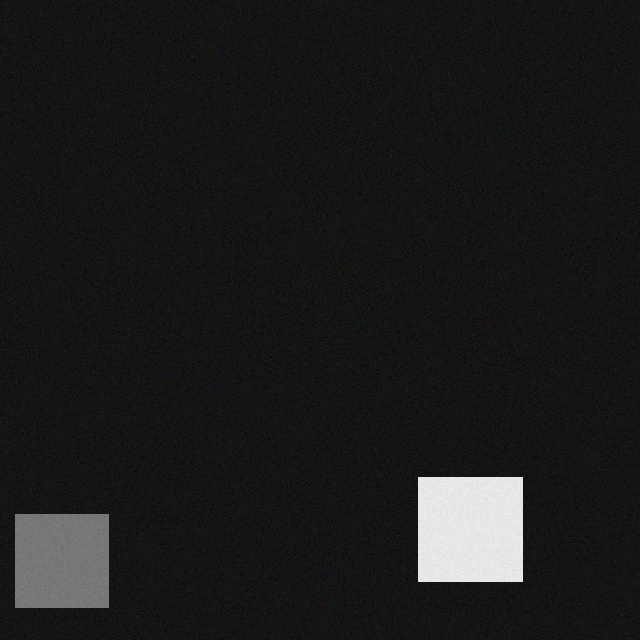square: (412, 488, 516, 592), (9, 525, 102, 618)
